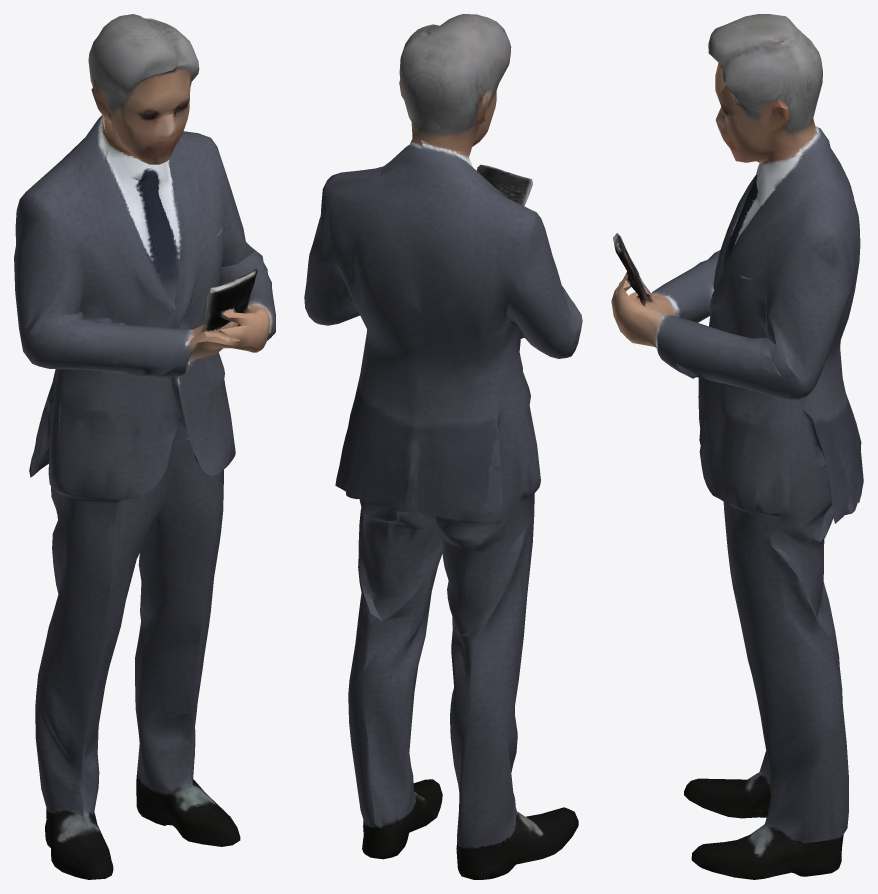
Rendered from npc_suit.glb.
The picture shows the model from 3 angles, left to right: view 1: azimuth 30°, elevation 25°; view 2: azimuth 150°, elevation 25°; view 3: azimuth 270°, elevation 25°; orthographic projection.
Parts seen in each view (by area): view 1: npc_suit; view 2: npc_suit; view 3: npc_suit.
Part boxes in pixels (x1,y1,x2,y2): npc_suit: (14,14,275,879); npc_suit: (304,14,582,879); npc_suit: (611,14,863,879).
Size of the model in its own units: 0.5496 by 1.7 by 0.4704.
Materials: 1 (1 with a texture image).
